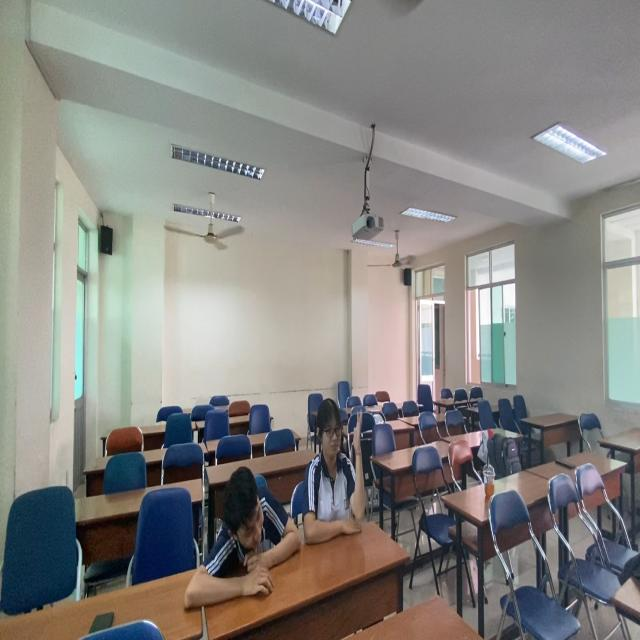raise_hand: (305, 392, 367, 543)
sleep: (184, 463, 304, 601)
